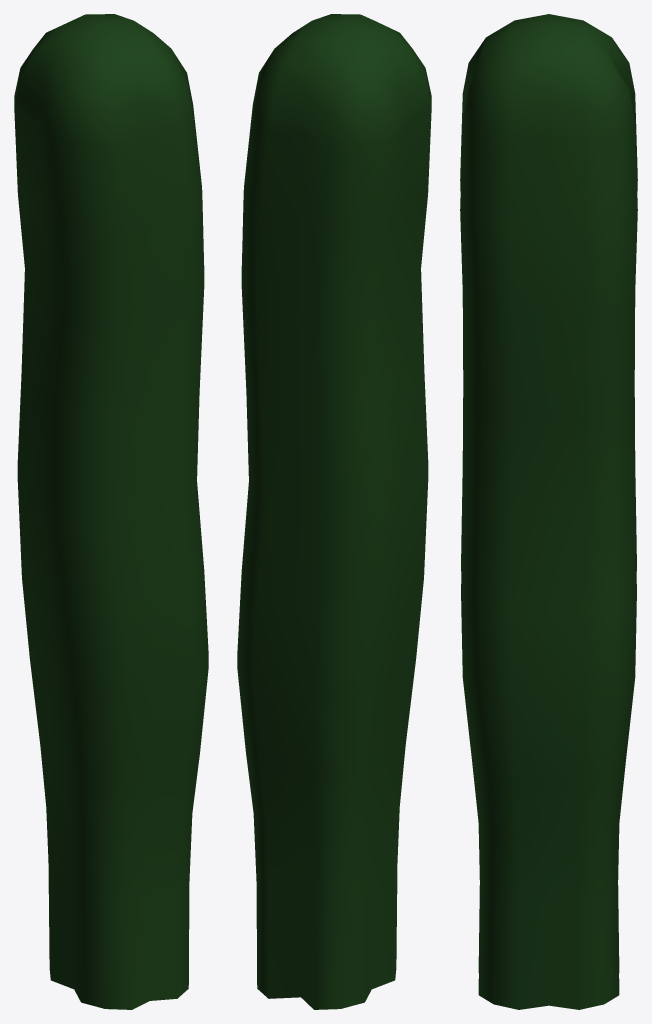
Rendered from Cactus_3.fbx.
3 renders of one model, left to right at view 1: azimuth 30°, elevation 25°; view 2: azimuth 150°, elevation 25°; view 3: azimuth 270°, elevation 25°, orthographic.
Parts seen in each view (by area): view 1: g_Cactus_3; view 2: g_Cactus_3; view 3: g_Cactus_3.
Boxes of the visible parts, box(x1,y1,x2,y2) form: g_Cactus_3: box(14, 14, 208, 1009); g_Cactus_3: box(237, 14, 431, 1009); g_Cactus_3: box(460, 14, 637, 1009).
Size of the model in its own units: 96.85 by 566 by 95.59.
